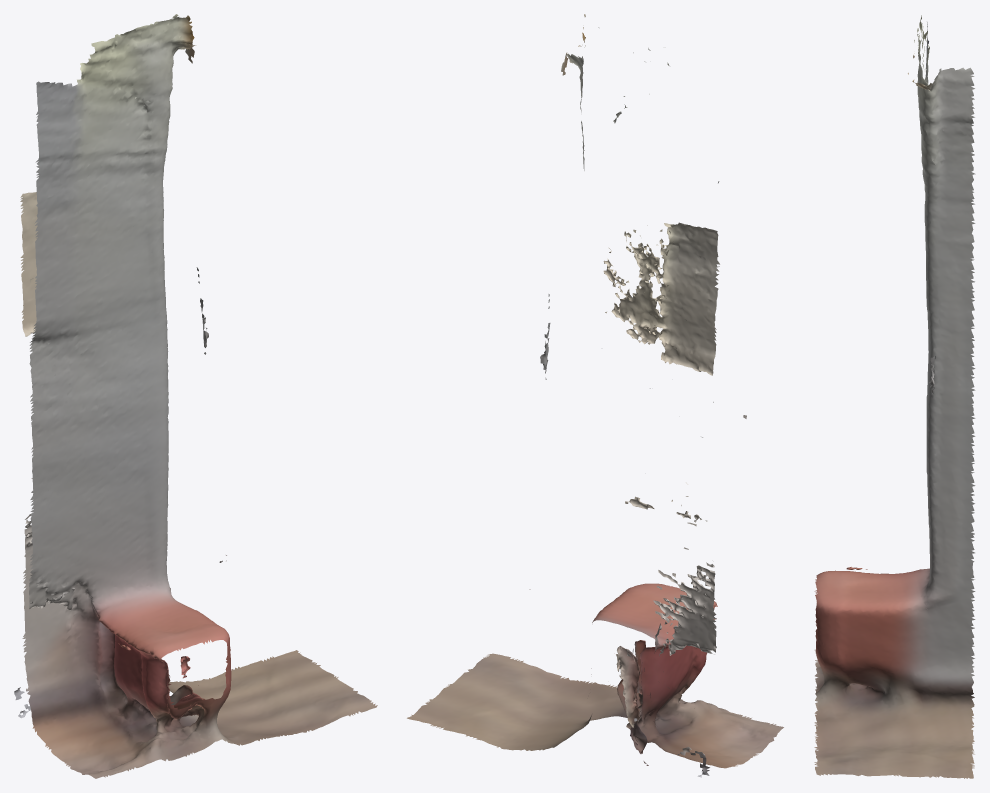
The model's file is apartment-full-68-ffdf46838d81.glb.
3 renders of one model, left to right at view 1: azimuth 30°, elevation 25°; view 2: azimuth 150°, elevation 25°; view 3: azimuth 270°, elevation 25°, orthographic. The views are drawn at different scales.
Size of the model in its own units: 0.794 by 1.85 by 0.405.
